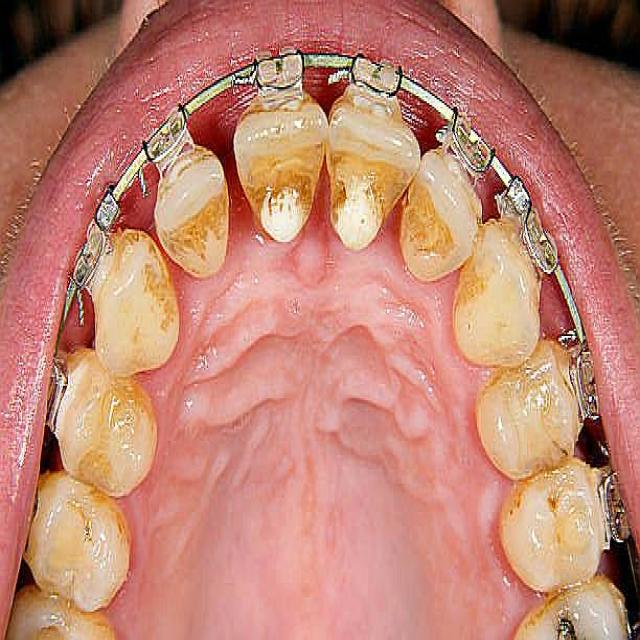caries: (320, 140, 394, 243), (250, 137, 318, 246), (543, 587, 588, 640)
